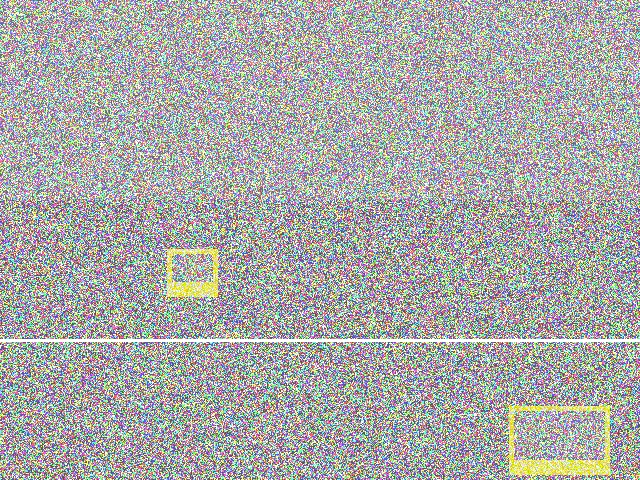car: (445, 321, 603, 403), (220, 242, 385, 306)
motorcycle: (258, 325, 354, 437)
